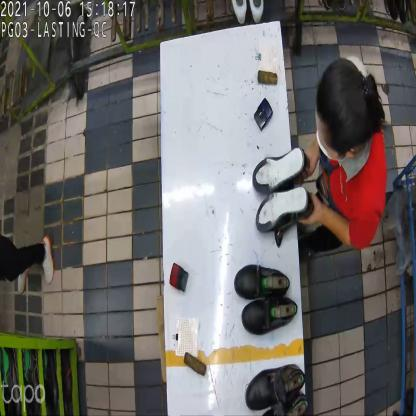shoes: (250, 143, 312, 247), (234, 261, 301, 334), (241, 358, 309, 416)
stamp: (170, 263, 192, 296), (254, 97, 274, 130)
